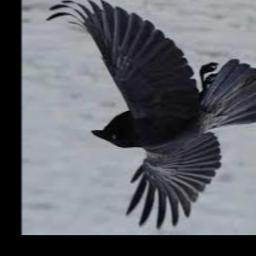Crow: (45, 0, 256, 229)
